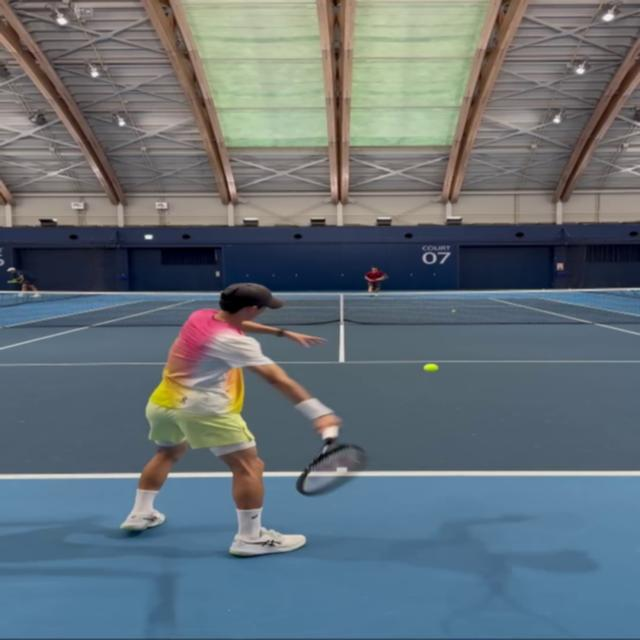tennis_ball: (427, 365, 438, 371)
